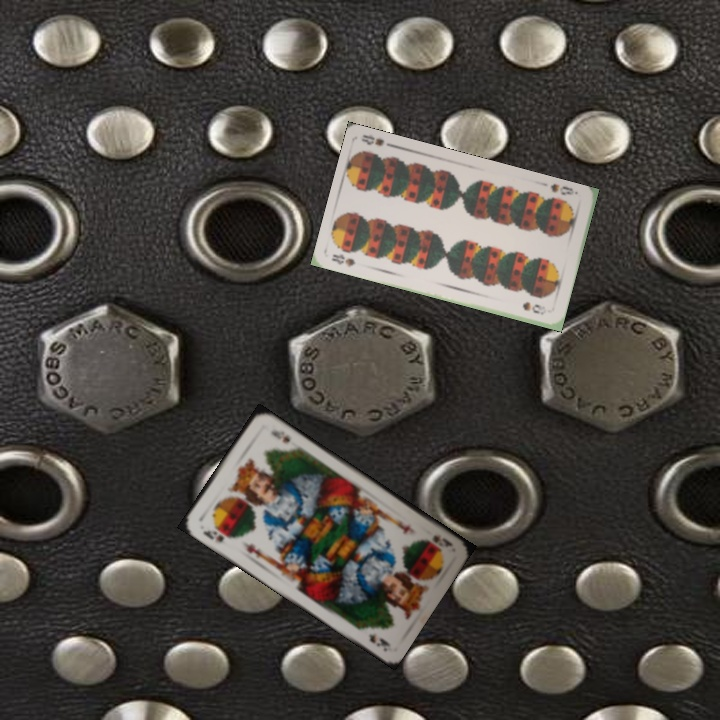S8: (327, 250, 358, 270), (546, 180, 580, 198)
SK: (199, 526, 227, 545), (428, 531, 456, 550)
